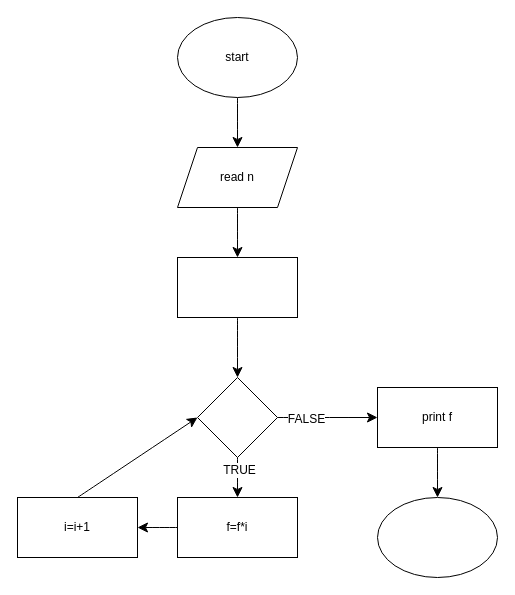
The diagram is 515 pixels wide and 595 high, and some of its shapes have lost their labels. Each missing label, with the centre of its shape:
"i<=n" belongs at pixel 237 417.
"i=1,f=1" belongs at pixel 237 287.
